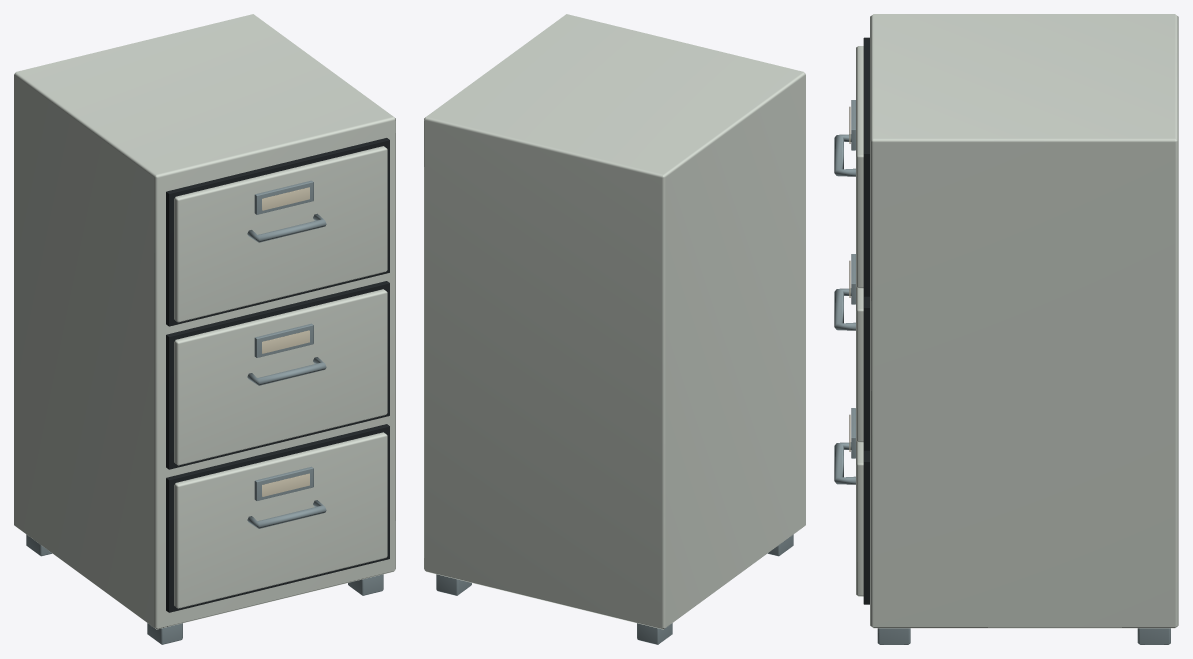
Rendered from S037_filing_cabinet_rebuilt.glb.
The picture shows the model from 3 angles, left to right: view 1: azimuth 30°, elevation 25°; view 2: azimuth 150°, elevation 25°; view 3: azimuth 270°, elevation 25°; orthographic projection. The views are drawn at different scales.
Parts seen in each view (by area): view 1: Warm_painted_enamel, Deep_joint_recess, Brushed_steel, Warm_ivory; view 2: Warm_painted_enamel, Brushed_steel; view 3: Warm_painted_enamel, Deep_joint_recess, Brushed_steel.
Part boxes in pixels (x1=…): Warm_painted_enamel: x1=14, y1=14, x2=395, y2=629; Deep_joint_recess: x1=166, y1=138, x2=389, y2=612; Brushed_steel: x1=26, y1=180, x2=383, y2=644; Warm_ivory: x1=262, y1=187, x2=309, y2=496; Warm_painted_enamel: x1=424, y1=14, x2=805, y2=629; Brushed_steel: x1=436, y1=534, x2=793, y2=644; Warm_painted_enamel: x1=856, y1=14, x2=1178, y2=628; Deep_joint_recess: x1=863, y1=37, x2=869, y2=604; Brushed_steel: x1=834, y1=100, x2=1170, y2=644.
Size of the model in its own units: 0.65 by 1.22 by 0.745.
